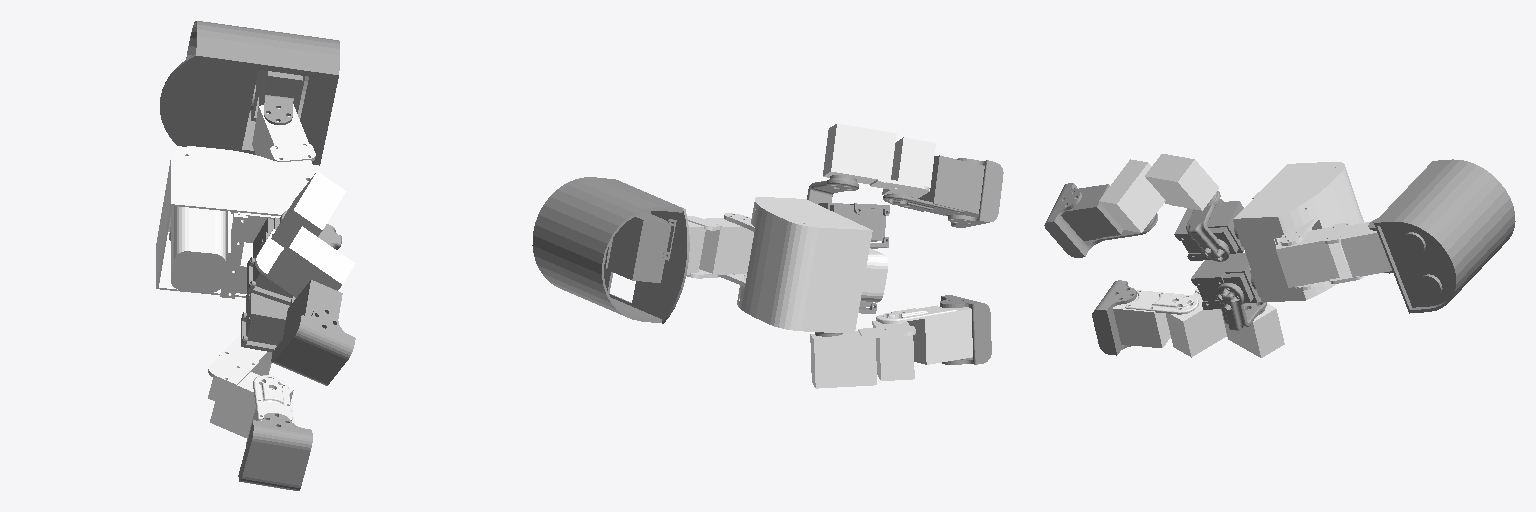
URDF robot description (open_duck):
<?xml version="1.0" encoding="utf-8"?>
<!-- This URDF was automatically created by SolidWorks to URDF Exporter! Originally created by Stephen Brawner (brawner@gmail.com) 
     Commit Version: 1.6.0-4-g7f85cfe  Build Version: 1.6.7995.38578
     For more information, please see http://wiki.ros.org/sw_urdf_exporter -->
<robot
  name="open_duck">
  <link
    name="base_link">
    <inertial>
      <origin
        xyz="-0.18015 0.033489 -0.15391"
        rpy="0 0 0" />
      <mass
        value="0.22976" />
      <inertia
        ixx="9.3278E-05"
        ixy="1.0323E-06"
        ixz="-7.5921E-06"
        iyy="0.00014139"
        iyz="1.3436E-05"
        izz="0.00010148" />
    </inertial>
    <visual>
      <origin
        xyz="0 0 0"
        rpy="0 0 0" />
      <geometry>
        <mesh
          filename="package://open_duck/meshes/base_link.STL" />
      </geometry>
      <material
        name="">
        <color
          rgba="1 1 1 1" />
      </material>
    </visual>
    <collision>
      <origin
        xyz="0 0 0"
        rpy="0 0 0" />
      <geometry>
        <mesh
          filename="package://open_duck/meshes/base_link.STL" />
      </geometry>
    </collision>
  </link>
  <link
    name="yaw2roll">
    <inertial>
      <origin
        xyz="0.00091469 -0.0010233 -0.026724"
        rpy="0 0 0" />
      <mass
        value="0.056714" />
      <inertia
        ixx="1.5934E-05"
        ixy="-3.9602E-07"
        ixz="1.4998E-07"
        iyy="1.7142E-05"
        iyz="4.4779E-08"
        izz="1.0886E-05" />
    </inertial>
    <visual>
      <origin
        xyz="0 0 0"
        rpy="0 0 0" />
      <geometry>
        <mesh
          filename="package://open_duck/meshes/yaw2roll.STL" />
      </geometry>
      <material
        name="">
        <color
          rgba="0.69804 0.69804 0.69804 1" />
      </material>
    </visual>
    <collision>
      <origin
        xyz="0 0 0"
        rpy="0 0 0" />
      <geometry>
        <mesh
          filename="package://open_duck/meshes/yaw2roll.STL" />
      </geometry>
    </collision>
  </link>
  <joint
    name="left_hip_yaw"
    type="revolute">
    <origin
      xyz="-0.16159 0.11336 0.045113"
      rpy="-1.2954 0.12282 -0.4891" />
    <parent
      link="base_link" />
    <child
      link="yaw2roll" />
    <axis
      xyz="3e-06 -0.009749 0.999952" />
    <limit
      lower="-0.4363"
      upper="0.5236"
      effort="1.5"
      velocity="3.0" />
  </joint>
  <link
    name="hip_l">
    <inertial>
      <origin
        xyz="-0.0029859 0.017816 -0.0048704"
        rpy="0 0 0" />
      <mass
        value="0.010639" />
      <inertia
        ixx="3.6547E-06"
        ixy="2.5081E-07"
        ixz="-1.8375E-07"
        iyy="2.1813E-06"
        iyz="1.1069E-06"
        izz="2.1957E-06" />
    </inertial>
    <visual>
      <origin
        xyz="0 0 0"
        rpy="0 0 0" />
      <geometry>
        <mesh
          filename="package://open_duck/meshes/hip_l.STL" />
      </geometry>
      <material
        name="">
        <color
          rgba="0.69804 0.69804 0.69804 1" />
      </material>
    </visual>
    <collision>
      <origin
        xyz="0 0 0"
        rpy="0 0 0" />
      <geometry>
        <mesh
          filename="package://open_duck/meshes/hip_l.STL" />
      </geometry>
    </collision>
  </link>
  <joint
    name="left_hip_roll"
    type="revolute">
    <origin
      xyz="0.019835 0.005922 -0.01708"
      rpy="-0.79989 -1.5708 -2.0032" />
    <parent
      link="yaw2roll" />
    <child
      link="hip_l" />
    <axis
      xyz="0 0 -1" />
    <limit
      lower="-0.384"
      upper="0.384"
      effort="1.5"
      velocity="3.0" />
  </joint>
  <link
    name="upper_leg_left">
    <inertial>
      <origin
        xyz="-0.023024 -0.025162 0.018536"
        rpy="0 0 0" />
      <mass
        value="0.083426" />
      <inertia
        ixx="1.7785E-05"
        ixy="-1.0982E-07"
        ixz="2.3293E-21"
        iyy="1.7915E-05"
        iyz="-3.3881E-21"
        izz="1.8334E-05" />
    </inertial>
    <visual>
      <origin
        xyz="0 0 0"
        rpy="0 0 0" />
      <geometry>
        <mesh
          filename="package://open_duck/meshes/upper_leg_left.STL" />
      </geometry>
      <material
        name="">
        <color
          rgba="1 1 1 1" />
      </material>
    </visual>
    <collision>
      <origin
        xyz="0 0 0"
        rpy="0 0 0" />
      <geometry>
        <mesh
          filename="package://open_duck/meshes/upper_leg_left.STL" />
      </geometry>
    </collision>
  </link>
  <joint
    name="left_hip_pitch"
    type="revolute">
    <origin
      xyz="-0.0055981 0.033536 -0.025"
      rpy="-1.5708 -0.81097 0.1654" />
    <parent
      link="hip_l" />
    <child
      link="upper_leg_left" />
    <axis
      xyz="0 0 -1" />
    <limit
      lower="-1.5708"
      upper="1.5708"
      effort="1.5"
      velocity="3.0" />
  </joint>
  <link
    name="leg">
    <inertial>
      <origin
        xyz="-0.023773 0.032093 -0.013313"
        rpy="0 0 0" />
      <mass
        value="0.045494" />
      <inertia
        ixx="1.0572E-05"
        ixy="2.6958E-06"
        ixz="3.9069E-09"
        iyy="8.4609E-06"
        iyz="-5.7257E-09"
        izz="1.0335E-05" />
    </inertial>
    <visual>
      <origin
        xyz="0 0 0"
        rpy="0 0 0" />
      <geometry>
        <mesh
          filename="package://open_duck/meshes/leg.STL" />
      </geometry>
      <material
        name="">
        <color
          rgba="0.69804 0.69804 0.69804 1" />
      </material>
    </visual>
    <collision>
      <origin
        xyz="0 0 0"
        rpy="0 0 0" />
      <geometry>
        <mesh
          filename="package://open_duck/meshes/leg.STL" />
      </geometry>
    </collision>
  </link>
  <joint
    name="left_knee"
    type="revolute">
    <origin
      xyz="-0.030542 -0.052752 0"
      rpy="-3.1416 0 -0.21531" />
    <parent
      link="upper_leg_left" />
    <child
      link="leg" />
    <axis
      xyz="0 0 -1" />
    <limit
      lower="-1.5708"
      upper="1.5708"
      effort="1.5"
      velocity="3.0" />
  </joint>
  <link
    name="ankle_left">
    <inertial>
      <origin
        xyz="0.0061372 -0.011792 -0.0195"
        rpy="0 0 0" />
      <mass
        value="0.023715" />
      <inertia
        ixx="7.1898E-06"
        ixy="-1.7453E-06"
        ixz="-3.4411E-21"
        iyy="7.0883E-06"
        iyz="4.2352E-21"
        izz="5.0577E-06" />
    </inertial>
    <visual>
      <origin
        xyz="0 0 0"
        rpy="0 0 0" />
      <geometry>
        <mesh
          filename="package://open_duck/meshes/ankle_left.STL" />
      </geometry>
      <material
        name="">
        <color
          rgba="0.69804 0.69804 0.69804 1" />
      </material>
    </visual>
    <collision>
      <origin
        xyz="0 0 0"
        rpy="0 0 0" />
      <geometry>
        <mesh
          filename="package://open_duck/meshes/ankle_left.STL" />
      </geometry>
    </collision>
  </link>
  <joint
    name="left_ankle"
    type="revolute">
    <origin
      xyz="-0.030042 0.044027 0.0048"
      rpy="0 0 2.9263" />
    <parent
      link="leg" />
    <child
      link="ankle_left" />
    <axis
      xyz="0 0 1" />
    <limit
      lower="-1.5708"
      upper="1.5708"
      effort="1.5"
      velocity="3.0" />
  </joint>
  <link
    name="bearing_roll">
    <inertial>
      <origin
        xyz="0.00085255 0.0010756 0.026724"
        rpy="0 0 0" />
      <mass
        value="0.056714" />
      <inertia
        ixx="1.5891E-05"
        ixy="3.219E-07"
        ixz="-1.5237E-07"
        iyy="1.7184E-05"
        iyz="3.5828E-08"
        izz="1.0886E-05" />
    </inertial>
    <visual>
      <origin
        xyz="0 0 0"
        rpy="0 0 0" />
      <geometry>
        <mesh
          filename="package://open_duck/meshes/bearing_roll.STL" />
      </geometry>
      <material
        name="">
        <color
          rgba="0.69804 0.69804 0.69804 1" />
      </material>
    </visual>
    <collision>
      <origin
        xyz="0 0 0"
        rpy="0 0 0" />
      <geometry>
        <mesh
          filename="package://open_duck/meshes/bearing_roll.STL" />
      </geometry>
    </collision>
  </link>
  <joint
    name="right_hip_yaw"
    type="revolute">
    <origin
      xyz="-0.16049 0.1271 0.00070269"
      rpy="1.8441 0 -0.52371" />
    <parent
      link="base_link" />
    <child
      link="bearing_roll" />
    <axis
      xyz="0 0 -1" />
    <limit
      lower="-0.5236"
      upper="0.4363"
      effort="1.5"
      velocity="3.0" />
  </joint>
  <link
    name="hip_l_2">
    <inertial>
      <origin
        xyz="0.0018905 -0.017966 -0.0038705"
        rpy="0 0 0" />
      <mass
        value="0.010639" />
      <inertia
        ixx="3.6793E-06"
        ixy="1.6133E-07"
        ixz="1.1742E-07"
        iyy="2.1567E-06"
        iyz="-1.1159E-06"
        izz="2.1957E-06" />
    </inertial>
    <visual>
      <origin
        xyz="0 0 0"
        rpy="0 0 0" />
      <geometry>
        <mesh
          filename="package://open_duck/meshes/hip_l_2.STL" />
      </geometry>
      <material
        name="">
        <color
          rgba="0.69804 0.69804 0.69804 1" />
      </material>
    </visual>
    <collision>
      <origin
        xyz="0 0 0"
        rpy="0 0 0" />
      <geometry>
        <mesh
          filename="package://open_duck/meshes/hip_l_2.STL" />
      </geometry>
    </collision>
  </link>
  <joint
    name="right_hip_roll"
    type="revolute">
    <origin
      xyz="0.019176 -0.004514 0.017052"
      rpy="-1.5708 1.2904 -1.8017" />
    <parent
      link="bearing_roll" />
    <child
      link="hip_l_2" />
    <axis
      xyz="0 0 -1" />
    <limit
      lower="-0.384"
      upper="0.384"
      effort="1.5"
      velocity="3.0" />
  </joint>
  <link
    name="upper_leg_right">
    <inertial>
      <origin
        xyz="0.030473 -0.009603 0.018536"
        rpy="0 0 0" />
      <mass
        value="0.083426" />
      <inertia
        ixx="1.7723E-05"
        ixy="6.5877E-09"
        ixz="-8.4703E-22"
        iyy="1.7977E-05"
        iyz="-2.1176E-22"
        izz="1.8334E-05" />
    </inertial>
    <visual>
      <origin
        xyz="0 0 0"
        rpy="0 0 0" />
      <geometry>
        <mesh
          filename="package://open_duck/meshes/upper_leg_right.STL" />
      </geometry>
      <material
        name="">
        <color
          rgba="1 1 1 1" />
      </material>
    </visual>
    <collision>
      <origin
        xyz="0 0 0"
        rpy="0 0 0" />
      <geometry>
        <mesh
          filename="package://open_duck/meshes/upper_leg_right.STL" />
      </geometry>
    </collision>
  </link>
  <joint
    name="right_hip_pitch"
    type="revolute">
    <origin
      xyz="0.0035607 -0.033813 -0.024"
      rpy="-1.5708 0.43698 -3.0359" />
    <parent
      link="hip_l_2" />
    <child
      link="upper_leg_right" />
    <axis
      xyz="0 0 -1" />
    <limit
      lower="-1.5708"
      upper="1.5708"
      effort="1.5"
      velocity="3.0" />
  </joint>
  <link
    name="leg_2">
    <inertial>
      <origin
        xyz="-0.034959 -0.019313 -0.013313"
        rpy="0 0 0" />
      <mass
        value="0.045494" />
      <inertia
        ixx="7.7902E-06"
        ixy="-2.324E-06"
        ixz="6.1928E-09"
        iyy="1.1243E-05"
        iyz="3.1142E-09"
        izz="1.0335E-05" />
    </inertial>
    <visual>
      <origin
        xyz="0 0 0"
        rpy="0 0 0" />
      <geometry>
        <mesh
          filename="package://open_duck/meshes/leg_2.STL" />
      </geometry>
      <material
        name="">
        <color
          rgba="1 1 1 1" />
      </material>
    </visual>
    <collision>
      <origin
        xyz="0 0 0"
        rpy="0 0 0" />
      <geometry>
        <mesh
          filename="package://open_duck/meshes/leg_2.STL" />
      </geometry>
    </collision>
  </link>
  <joint
    name="right_knee"
    type="revolute">
    <origin
      xyz="0.051881 -0.031999 0"
      rpy="3.1416 0 3.1416" />
    <parent
      link="upper_leg_right" />
    <child
      link="leg_2" />
    <axis
      xyz="0.180239 -0.380896 -0.906881" />
    <limit
      lower="-1.5708"
      upper="1.5708"
      effort="1.5"
      velocity="3.0" />
  </joint>
  <link
    name="ankle_right">
    <inertial>
      <origin
        xyz="-0.0092602 -0.0095372 -0.0195"
        rpy="0 0 0" />
      <mass
        value="0.023715" />
      <inertia
        ixx="8.1401E-06"
        ixy="1.4305E-06"
        ixz="2.647E-22"
        iyy="6.1379E-06"
        iyz="0"
        izz="5.0577E-06" />
    </inertial>
    <visual>
      <origin
        xyz="0 0 0"
        rpy="0 0 0" />
      <geometry>
        <mesh
          filename="package://open_duck/meshes/ankle_right.STL" />
      </geometry>
      <material
        name="">
        <color
          rgba="0.69804 0.69804 0.69804 1" />
      </material>
    </visual>
    <collision>
      <origin
        xyz="0 0 0"
        rpy="0 0 0" />
      <geometry>
        <mesh
          filename="package://open_duck/meshes/ankle_right.STL" />
      </geometry>
    </collision>
  </link>
  <joint
    name="right_ankle"
    type="revolute">
    <origin
      xyz="-0.047618 -0.023946 0.00445"
      rpy="0 0 0" />
    <parent
      link="leg_2" />
    <child
      link="ankle_right" />
    <axis
      xyz="-0.180239 0.380896 0.906881" />
    <limit
      lower="-1.5708"
      upper="1.5708"
      effort="1.5"
      velocity="3.0" />
  </joint>
  <link
    name="neck">
    <inertial>
      <origin
        xyz="0.0060253 0.038279 0.019629"
        rpy="0 0 0" />
      <mass
        value="0.085354" />
      <inertia
        ixx="2.2401E-05"
        ixy="-1.4588E-06"
        ixz="-1.6411E-21"
        iyy="1.3363E-05"
        iyz="2.7529E-21"
        izz="1.8394E-05" />
    </inertial>
    <visual>
      <origin
        xyz="0 0 0"
        rpy="0 0 0" />
      <geometry>
        <mesh
          filename="package://open_duck/meshes/neck.STL" />
      </geometry>
      <material
        name="">
        <color
          rgba="1 1 1 1" />
      </material>
    </visual>
    <collision>
      <origin
        xyz="0 0 0"
        rpy="0 0 0" />
      <geometry>
        <mesh
          filename="package://open_duck/meshes/neck.STL" />
      </geometry>
    </collision>
  </link>
  <joint
    name="neck_pitch"
    type="revolute">
    <origin
      xyz="-0.11753 0.16438 0.017486"
      rpy="0.30093 0 -0.080047" />
    <parent
      link="base_link" />
    <child
      link="neck" />
    <axis
      xyz="0 0 -1" />
    <limit
      lower="-1.5708"
      upper="1.0472"
      effort="1.5"
      velocity="3.0" />
  </joint>
  <link
    name="neck_pitch">
    <inertial>
      <origin
        xyz="-0.0063834 0.013031 -0.019"
        rpy="0 0 0" />
      <mass
        value="0.0061001" />
      <inertia
        ixx="1.8453E-06"
        ixy="1.0975E-07"
        ixz="1.4558E-22"
        iyy="1.675E-06"
        iyz="-1.5882E-22"
        izz="6.6543E-07" />
    </inertial>
    <visual>
      <origin
        xyz="0 0 0"
        rpy="0 0 0" />
      <geometry>
        <mesh
          filename="package://open_duck/meshes/neck_pitch.STL" />
      </geometry>
      <material
        name="">
        <color
          rgba="0.69804 0.69804 0.69804 1" />
      </material>
    </visual>
    <collision>
      <origin
        xyz="0 0 0"
        rpy="0 0 0" />
      <geometry>
        <mesh
          filename="package://open_duck/meshes/neck_pitch.STL" />
      </geometry>
    </collision>
  </link>
  <joint
    name="head_pitch"
    type="revolute">
    <origin
      xyz="0.012051 0.076557 0.000255"
      rpy="-3.1416 0 -3.1416" />
    <parent
      link="neck" />
    <child
      link="neck_pitch" />
    <axis
      xyz="0 0 1" />
    <limit
      lower="-1.5708"
      upper="1.5708"
      effort="1.5"
      velocity="3.0" />
  </joint>
  <link
    name="yaw_roll_motion">
    <inertial>
      <origin
        xyz="-0.002532 0.0088067 0.019573"
        rpy="0 0 0" />
      <mass
        value="0.051243" />
      <inertia
        ixx="1.4551E-05"
        ixy="1.0047E-06"
        ixz="1.1087E-07"
        iyy="9.3889E-06"
        iyz="-3.5674E-07"
        izz="1.3564E-05" />
    </inertial>
    <visual>
      <origin
        xyz="0 0 0"
        rpy="0 0 0" />
      <geometry>
        <mesh
          filename="package://open_duck/meshes/yaw_roll_motion.STL" />
      </geometry>
      <material
        name="">
        <color
          rgba="0.69804 0.69804 0.69804 1" />
      </material>
    </visual>
    <collision>
      <origin
        xyz="0 0 0"
        rpy="0 0 0" />
      <geometry>
        <mesh
          filename="package://open_duck/meshes/yaw_roll_motion.STL" />
      </geometry>
    </collision>
  </link>
  <joint
    name="head_yaw"
    type="revolute">
    <origin
      xyz="-0.010388 0.021207 -0.019"
      rpy="-1.5708 -0.13569 0.4555" />
    <parent
      link="neck_pitch" />
    <child
      link="yaw_roll_motion" />
    <axis
      xyz="0 0 1" />
    <limit
      lower="-2.9671"
      upper="2.9671"
      effort="1.5"
      velocity="3.0" />
  </joint>
  <link
    name="jaw_soft">
    <inertial>
      <origin
        xyz="-0.0053623 0.0068753 -0.00017064"
        rpy="0 0 0" />
      <mass
        value="0.11741" />
      <inertia
        ixx="0.00016779"
        ixy="-1.2997E-05"
        ixz="-7.2514E-06"
        iyy="0.00013205"
        iyz="1.9677E-06"
        izz="0.00011434" />
    </inertial>
    <visual>
      <origin
        xyz="0 0 0"
        rpy="0 0 0" />
      <geometry>
        <mesh
          filename="package://open_duck/meshes/jaw_soft.STL" />
      </geometry>
      <material
        name="">
        <color
          rgba="0.69804 0.69804 0.69804 1" />
      </material>
    </visual>
    <collision>
      <origin
        xyz="0 0 0"
        rpy="0 0 0" />
      <geometry>
        <mesh
          filename="package://open_duck/meshes/jaw_soft.STL" />
      </geometry>
    </collision>
  </link>
  <joint
    name="head_roll"
    type="revolute">
    <origin
      xyz="0.018587 0.00099513 0.01774"
      rpy="1.5708 1.2979 1.7346" />
    <parent
      link="yaw_roll_motion" />
    <child
      link="jaw_soft" />
    <axis
      xyz="0 0 1" />
    <limit
      lower="-0.4363"
      upper="0.4363"
      effort="1.5"
      velocity="3.0" />
  </joint>
</robot>

--- Render facts (derived) ---
The picture shows the robot from 3 angles, left to right: view 1: azimuth 30°, elevation 25°; view 2: azimuth 150°, elevation 25°; view 3: azimuth 270°, elevation 25°; orthographic projection.
Model open_duck with 15 links and 14 joints (14 revolute), rooted at base_link, posed all joints at 0.
Visible links, largest first — view 1: base_link, jaw_soft, upper_leg_left, ankle_right, ankle_left, upper_leg_right, neck, bearing_roll, leg, leg_2, yaw_roll_motion, yaw2roll (+1 smaller); view 2: jaw_soft, base_link, upper_leg_left, upper_leg_right, leg_2, neck, leg, ankle_right, ankle_left, yaw2roll, hip_l; view 3: jaw_soft, base_link, upper_leg_left, neck, upper_leg_right, leg_2, leg, bearing_roll, yaw2roll, ankle_right, ankle_left, hip_l_2 (+1 smaller).
Boxes of the visible links, x1=… form: base_link: x1=156, y1=146, x2=311, y2=298; jaw_soft: x1=160, y1=21, x2=339, y2=165; upper_leg_left: x1=255, y1=171, x2=355, y2=297; ankle_right: x1=238, y1=413, x2=312, y2=490; ankle_left: x1=271, y1=307, x2=355, y2=385; upper_leg_right: x1=208, y1=334, x2=293, y2=438; neck: x1=252, y1=104, x2=315, y2=176; bearing_roll: x1=241, y1=291, x2=289, y2=352; leg: x1=283, y1=280, x2=342, y2=337; leg_2: x1=246, y1=375, x2=294, y2=444; yaw_roll_motion: x1=250, y1=70, x2=304, y2=121; yaw2roll: x1=247, y1=217, x2=291, y2=305; jaw_soft: x1=532, y1=177, x2=689, y2=323; base_link: x1=719, y1=197, x2=887, y2=333; upper_leg_left: x1=823, y1=123, x2=935, y2=198; upper_leg_right: x1=810, y1=321, x2=915, y2=388; leg_2: x1=876, y1=305, x2=972, y2=364; neck: x1=686, y1=216, x2=753, y2=278; leg: x1=883, y1=155, x2=984, y2=216; ankle_right: x1=940, y1=295, x2=991, y2=364; ankle_left: x1=948, y1=158, x2=1003, y2=227; yaw2roll: x1=818, y1=203, x2=889, y2=248; hip_l: x1=807, y1=175, x2=858, y2=203; jaw_soft: x1=1374, y1=159, x2=1515, y2=313; base_link: x1=1233, y1=162, x2=1363, y2=302; upper_leg_left: x1=1099, y1=154, x2=1218, y2=232; neck: x1=1276, y1=221, x2=1391, y2=287; upper_leg_right: x1=1166, y1=288, x2=1284, y2=357; leg_2: x1=1113, y1=290, x2=1198, y2=347; leg: x1=1061, y1=184, x2=1157, y2=240; bearing_roll: x1=1191, y1=253, x2=1260, y2=309; yaw2roll: x1=1174, y1=199, x2=1243, y2=260; ankle_right: x1=1092, y1=280, x2=1136, y2=355; ankle_left: x1=1044, y1=183, x2=1101, y2=257; hip_l_2: x1=1216, y1=283, x2=1266, y2=330.
Bounding box of the posed robot: 0.2289 × 0.384 × 0.2151 m (x, y, z).
Meshes: 15 distinct files referenced, 15 mesh visuals loaded (15 binary STL).
